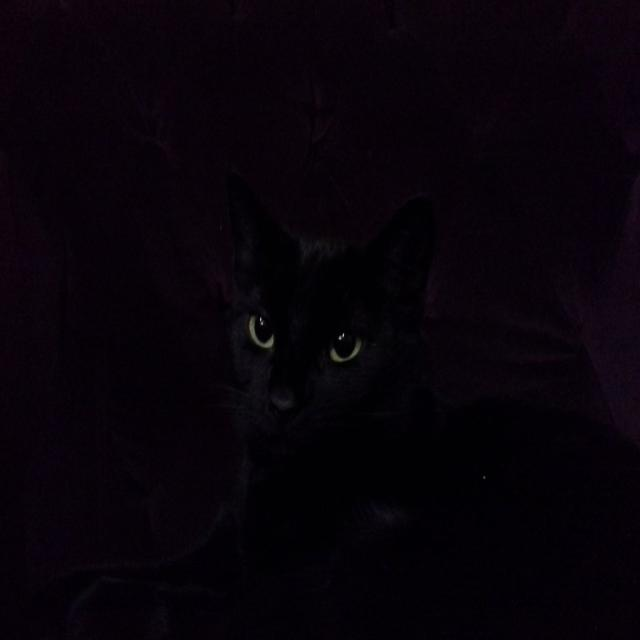Cat: (28, 142, 632, 631)
